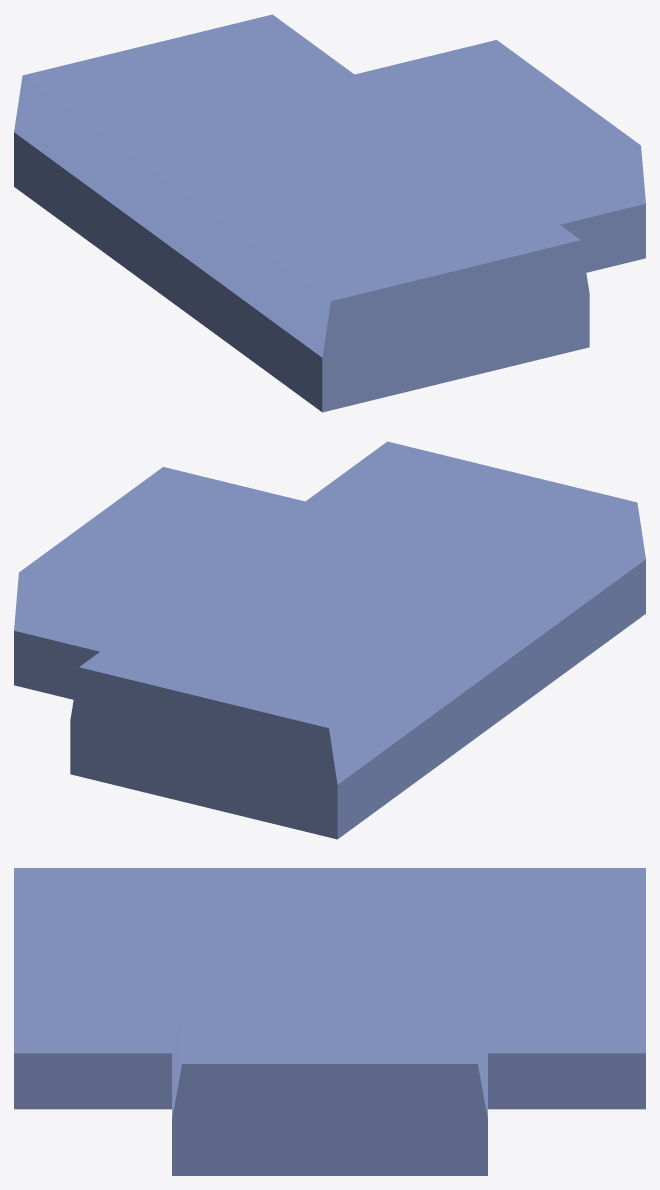
The model's file is tile-cliff-fork.glb.
3 views of the same model, one above another, from view 1: azimuth 30°, elevation 25°; view 2: azimuth 150°, elevation 25°; view 3: azimuth 270°, elevation 25° (orthographic). The views are drawn at different scales.
Parts seen in each view (by area): view 1: tiles-cliff_fork; view 2: tiles-cliff_fork; view 3: tiles-cliff_fork.
Boxes of the visible parts, x1,y1,x2,y2 form: tiles-cliff_fork: (14, 14, 645, 412); tiles-cliff_fork: (14, 441, 645, 839); tiles-cliff_fork: (14, 868, 645, 1175).
Bounding box in the file's own units: 48 × 12.5 × 64.
